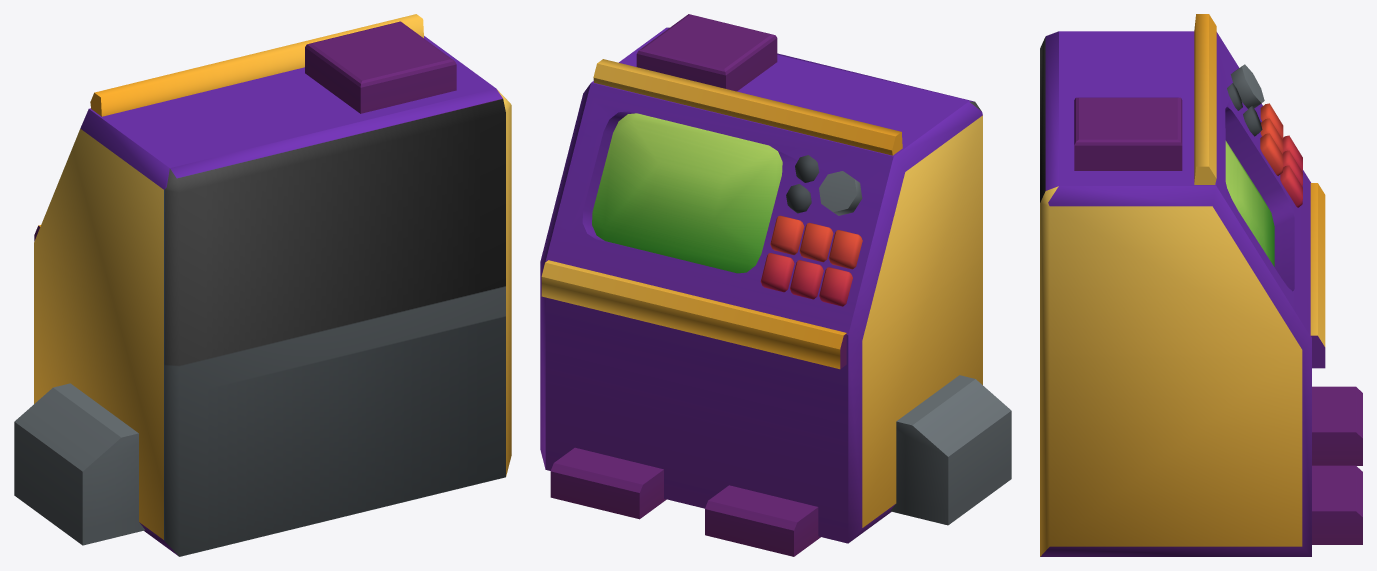
The model's file is computer1.glb.
3 views of the same model, side by side, from view 1: azimuth 30°, elevation 25°; view 2: azimuth 150°, elevation 25°; view 3: azimuth 270°, elevation 25° (orthographic). The views are drawn at different scales.
Parts seen in each view (by area): view 1: computer1; view 2: computer1; view 3: computer1.
Boxes of the visible parts, x1,y1,x2,y2 form: computer1: (14, 14, 511, 556); computer1: (540, 14, 1011, 556); computer1: (1040, 14, 1362, 556).
Size of the model in its own units: 2.1 by 2.06 by 1.49.
1 material, 1 textured.
